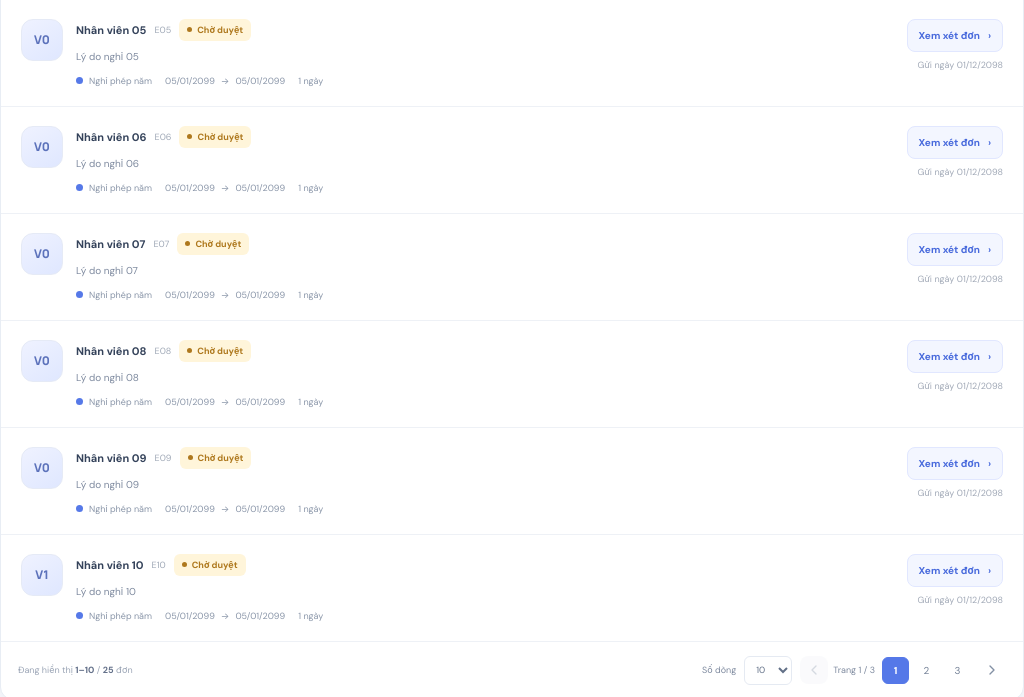
ApprovalsPage › paginates approval requests and resets to the first page when searching
The image size is (1024, 697).
(page scrolled)
Expected: the text "Trang 1 / 3" is shown, [833, 664, 875, 676]
Click the button named "Trang sau".
click(992, 670)  # box [978, 656, 1006, 684]
(page scrolled)
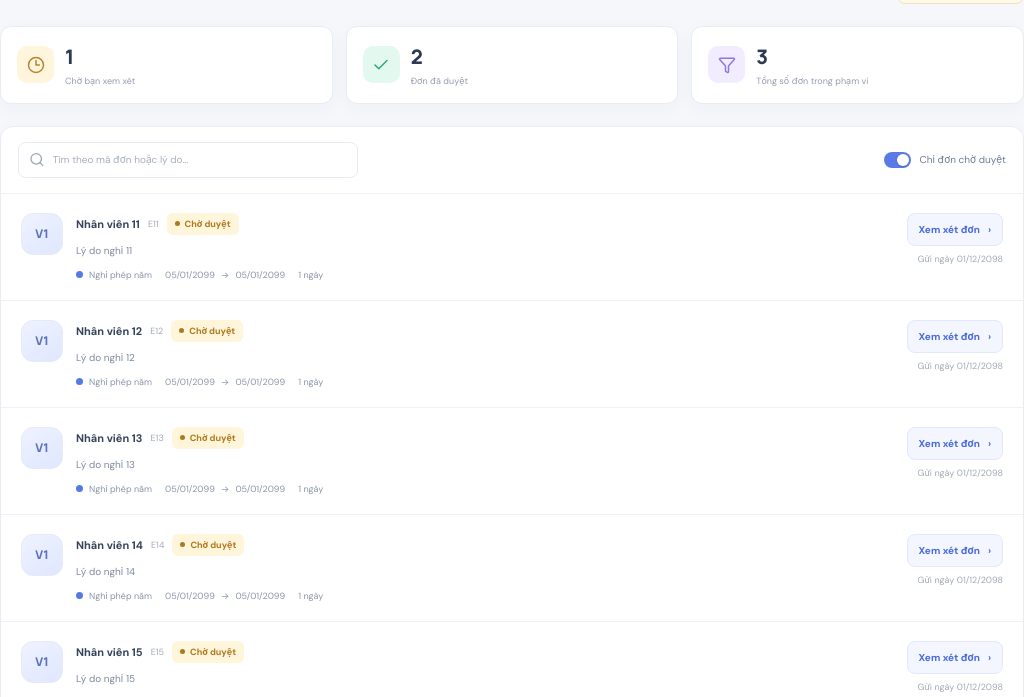
Result: the text "Nhân viên 11" is shown at [76, 216, 140, 230]
Type "Lý do nghỉ 20" into the field named "Tìm đơn cần duyệt".
click(200, 160); type("Lý do nghỉ 20")  # box [53, 153, 347, 166]
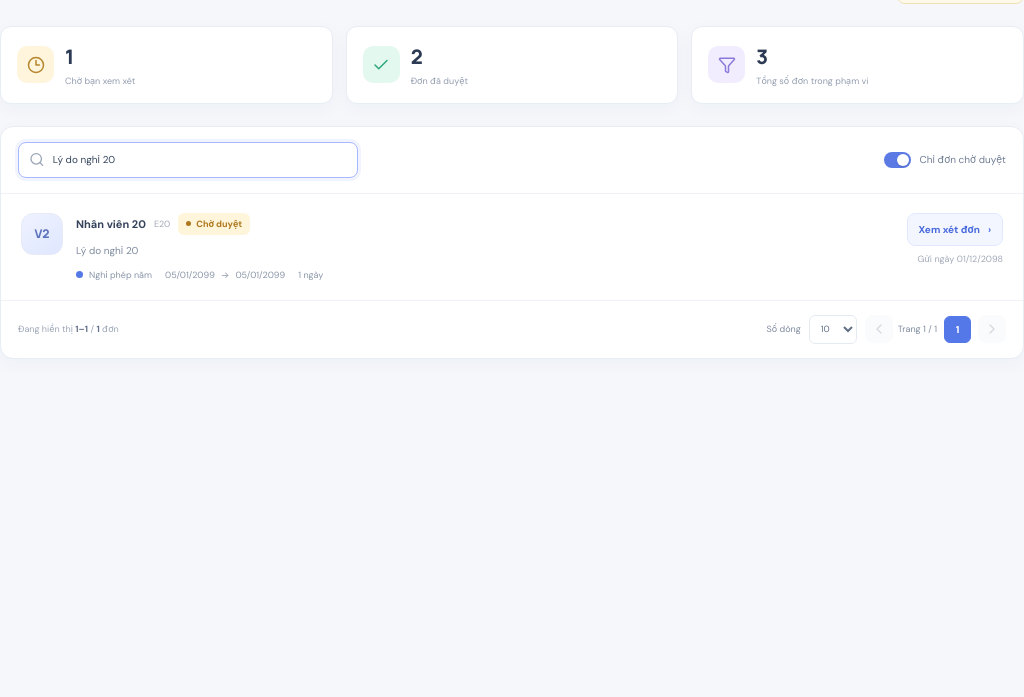
Result: the text "Nhân viên 20" is shown at [76, 216, 146, 230]
Result: the text "Trang 1 / 1" is shown at [898, 323, 937, 335]
Result: the text "Nhân viên 11" is gone
